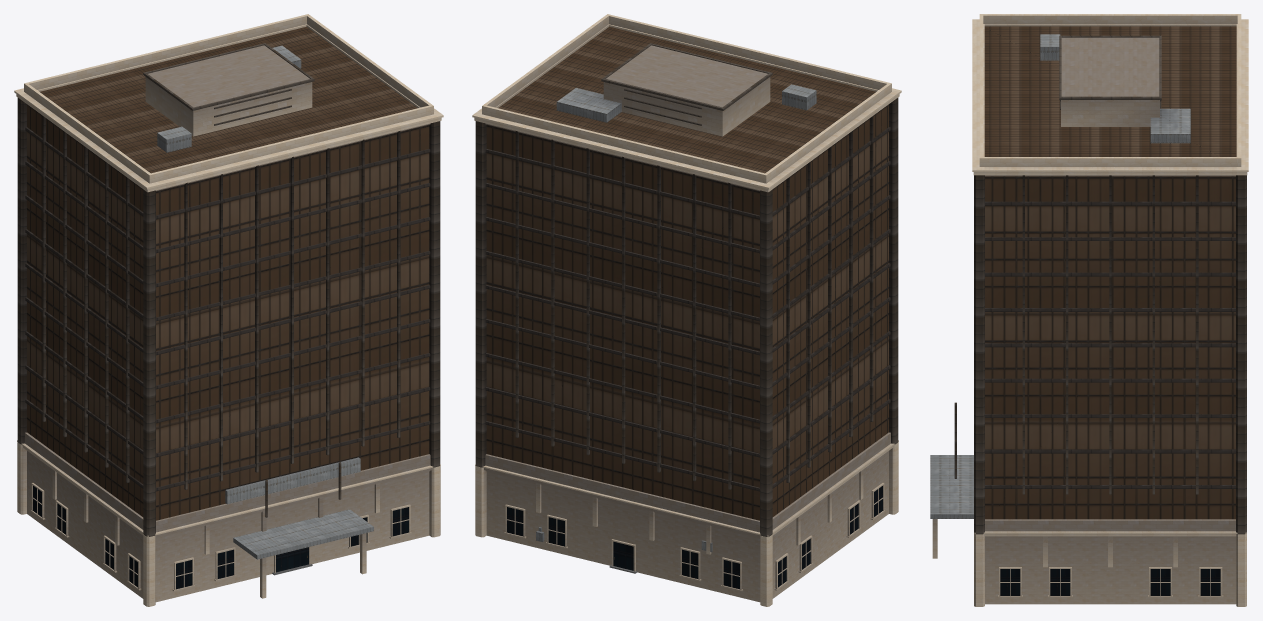
File: congress-plaza-hotel_lod0.gltf
3 views of the same model, side by side, from view 1: azimuth 30°, elevation 25°; view 2: azimuth 150°, elevation 25°; view 3: azimuth 270°, elevation 25° (orthographic). The views are drawn at different scales.
Visible parts, largest first — view 1: congress-plaza-hotel_upper, congress-plaza-hotel__v4_metal_detail, congress-plaza-hotel__v4_stone_detail, congress-plaza-hotel_base, congress-plaza-hotel__porte_cochere, congress-plaza-hotel_fen_07-glass-curtain-blue_1_t, congress-plaza-hotel_fen_04-limestone_0, congress-plaza-hotel__sign_band, congress-plaza-hotel__hvac; view 2: congress-plaza-hotel_upper, congress-plaza-hotel__v4_metal_detail, congress-plaza-hotel__v4_stone_detail, congress-plaza-hotel_base, congress-plaza-hotel_fen_07-glass-curtain-blue_1_t, congress-plaza-hotel_fen_04-limestone_0, congress-plaza-hotel__pool_deck, congress-plaza-hotel__hvac; view 3: congress-plaza-hotel_upper, congress-plaza-hotel__v4_stone_detail, congress-plaza-hotel__v4_metal_detail, congress-plaza-hotel_base, congress-plaza-hotel__porte_cochere, congress-plaza-hotel_fen_07-glass-curtain-blue_1_t, congress-plaza-hotel__pool_deck, congress-plaza-hotel_fen_04-limestone_0, congress-plaza-hotel__hvac.
Part boxes in pixels (<box>): congress-plaza-hotel_upper: <box>27,26,429,520</box>; congress-plaza-hotel__v4_metal_detail: <box>17,43,440,536</box>; congress-plaza-hotel__v4_stone_detail: <box>14,14,443,606</box>; congress-plaza-hotel_base: <box>27,451,429,602</box>; congress-plaza-hotel__porte_cochere: <box>233,509,373,559</box>; congress-plaza-hotel_fen_07-glass-curtain-blue_1_t: <box>33,486,408,589</box>; congress-plaza-hotel_fen_04-limestone_0: <box>31,483,411,591</box>; congress-plaza-hotel__sign_band: <box>225,457,360,504</box>; congress-plaza-hotel__hvac: <box>157,126,191,152</box>; congress-plaza-hotel_upper: <box>486,26,888,520</box>; congress-plaza-hotel__v4_metal_detail: <box>475,43,898,536</box>; congress-plaza-hotel__v4_stone_detail: <box>472,14,901,606</box>; congress-plaza-hotel_base: <box>486,451,888,602</box>; congress-plaza-hotel_fen_07-glass-curtain-blue_1_t: <box>507,486,882,589</box>; congress-plaza-hotel_fen_04-limestone_0: <box>504,483,884,591</box>; congress-plaza-hotel__pool_deck: <box>556,88,621,122</box>; congress-plaza-hotel__hvac: <box>782,84,816,110</box>; congress-plaza-hotel_upper: <box>984,26,1236,519</box>; congress-plaza-hotel__v4_stone_detail: <box>972,14,1248,606</box>; congress-plaza-hotel__v4_metal_detail: <box>954,35,1246,534</box>; congress-plaza-hotel_base: <box>985,537,1236,604</box>; congress-plaza-hotel__porte_cochere: <box>930,455,973,518</box>; congress-plaza-hotel_fen_07-glass-curtain-blue_1_t: <box>1000,569,1220,595</box>; congress-plaza-hotel__pool_deck: <box>1150,108,1190,143</box>; congress-plaza-hotel_fen_04-limestone_0: <box>998,567,1223,597</box>; congress-plaza-hotel__hvac: <box>1040,34,1060,60</box>.
Size of the model in its own units: 35.6 by 51.3 by 31.8.
